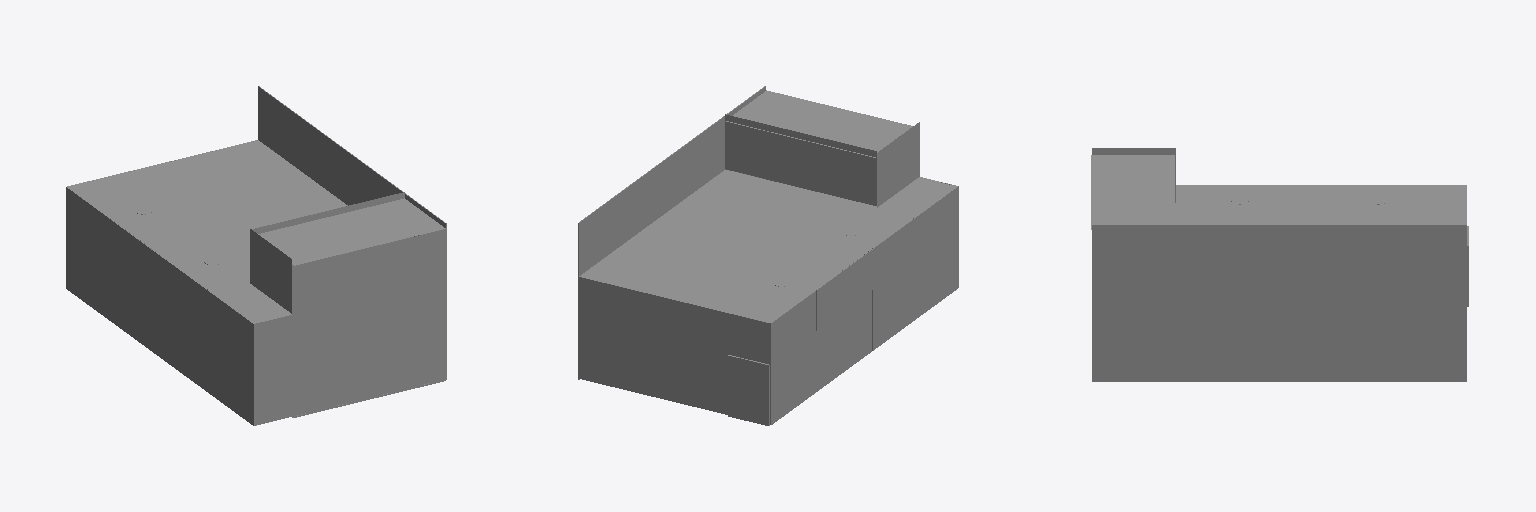
File: objtest2.obj
3 renders of one model, left to right at view 1: azimuth 30°, elevation 25°; view 2: azimuth 150°, elevation 25°; view 3: azimuth 270°, elevation 25°, orthographic.
Parts seen in each view (by area): view 1: frontdoor_Plane.006, ceiling_Plane.004, frontwallleft.001_Cube.002, backwall_Cube, ceiling2.003_Plane.009, frontwallleft_Cube.001, windowwall.000_Cube.005, sidedoor_Plane.002, blankwall1_Cube.006, ceiling2.001_Plane.003, ceiling2.002_Plane.007, ceiling2.000_Plane.008; view 2: ceiling_Plane.004, windowwall.001_Cube.004, frontwallleft.001_Cube.002, ceiling2.000_Plane.008, backwall_Cube, ceiling2.003_Plane.009, frontwallleft_Cube.001, sidedoor_Plane.002, door_Cube.003, blankwall1_Cube.006, ceiling2.001_Plane.003, ceiling2.002_Plane.007; view 3: backwall_Cube, ceiling_Plane.004, ceiling2.003_Plane.009, ceiling2.001_Plane.003.
Part boxes in pixels (left/top/right/bottom): frontdoor_Plane.006: left=292, top=229, right=445, bottom=417; ceiling_Plane.004: left=68, top=140, right=347, bottom=293; frontwallleft.001_Cube.002: left=168, top=261, right=254, bottom=425; backwall_Cube: left=258, top=86, right=446, bottom=379; ceiling2.003_Plane.009: left=258, top=198, right=445, bottom=265; frontwallleft_Cube.001: left=66, top=187, right=112, bottom=322; windowwall.000_Cube.005: left=254, top=314, right=294, bottom=425; sidedoor_Plane.002: left=113, top=263, right=167, bottom=362; blankwall1_Cube.006: left=111, top=220, right=167, bottom=301; ceiling2.001_Plane.003: left=250, top=229, right=291, bottom=313; ceiling2.002_Plane.007: left=214, top=285, right=290, bottom=322; ceiling2.000_Plane.008: left=253, top=192, right=404, bottom=265; ceiling_Plane.004: left=580, top=170, right=915, bottom=322; windowwall.001_Cube.004: left=578, top=276, right=769, bottom=414; frontwallleft.001_Cube.002: left=872, top=186, right=958, bottom=350; ceiling2.000_Plane.008: left=725, top=114, right=876, bottom=205; backwall_Cube: left=578, top=86, right=765, bottom=379; ceiling2.003_Plane.009: left=726, top=90, right=912, bottom=157; frontwallleft_Cube.001: left=770, top=289, right=817, bottom=424; sidedoor_Plane.002: left=818, top=291, right=871, bottom=390; door_Cube.003: left=728, top=355, right=769, bottom=425; blankwall1_Cube.006: left=816, top=249, right=873, bottom=330; ceiling2.001_Plane.003: left=877, top=122, right=919, bottom=207; ceiling2.002_Plane.007: left=879, top=177, right=956, bottom=215; backwall_Cube: left=1092, top=225, right=1466, bottom=381; ceiling_Plane.004: left=1175, top=185, right=1465, bottom=224; ceiling2.003_Plane.009: left=1091, top=155, right=1174, bottom=229; ceiling2.001_Plane.003: left=1092, top=148, right=1175, bottom=202.
Bounding box in the file's own units: 23.17 × 18.23 × 39.28.